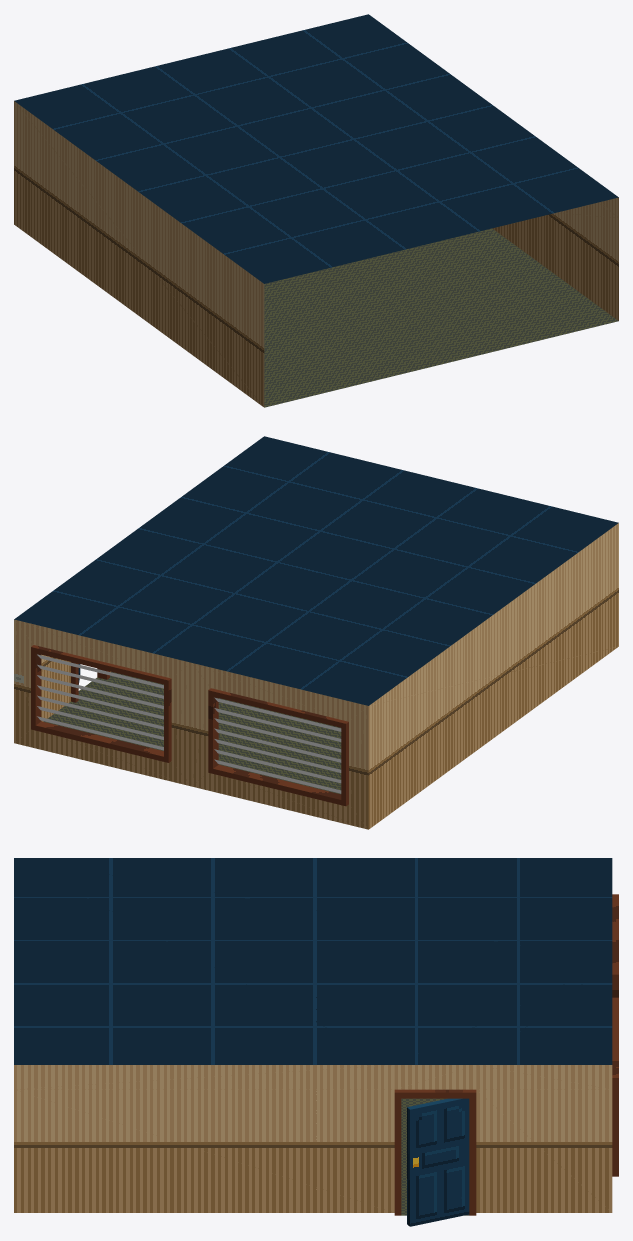
Rendered from lucius_room.glb.
3 views of the same model, one above another, from view 1: azimuth 30°, elevation 25°; view 2: azimuth 150°, elevation 25°; view 3: azimuth 270°, elevation 25° (orthographic). The views are drawn at different scales.
Visible parts, largest first — view 1: OfficeRoom; view 2: OfficeRoom, BlindersL, BlindersR; view 3: OfficeRoom, Door.
Boxes of the visible parts, left/top/right/bottom form: OfficeRoom: left=14, top=14, right=618, bottom=407; OfficeRoom: left=14, top=436, right=618, bottom=829; BlindersL: left=214, top=697, right=341, bottom=793; BlindersR: left=37, top=654, right=163, bottom=750; OfficeRoom: left=14, top=858, right=618, bottom=1215; Door: left=407, top=1098, right=469, bottom=1226.
Bounding box in the file's own units: 19.22 × 6 × 22.25.
3 materials, 2 textured.
